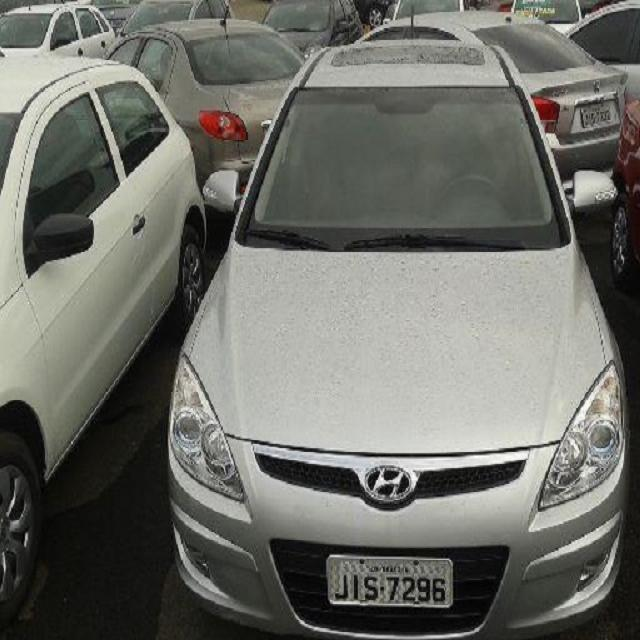Placa: (325, 552, 459, 612)
